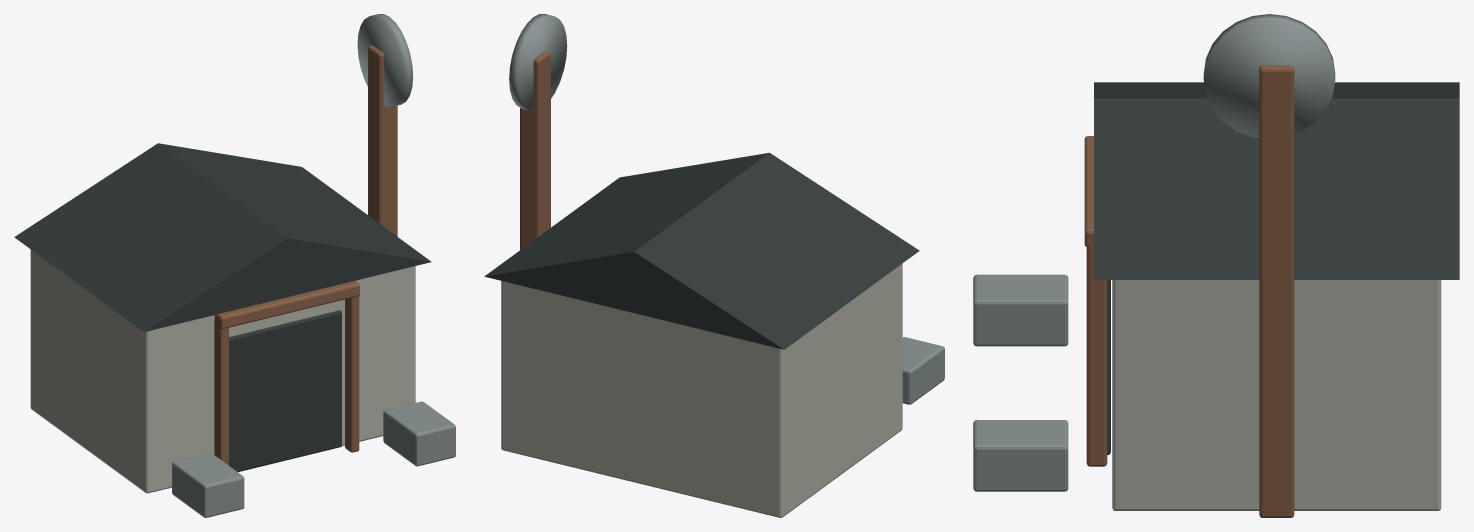
File: quarry.glb
3 renders of one model, left to right at view 1: azimuth 30°, elevation 25°; view 2: azimuth 150°, elevation 25°; view 3: azimuth 270°, elevation 25°, orthographic. The views are drawn at different scales.
Visible parts, largest first — view 1: quarry_black, quarry_stone, quarry_timber, quarry_steel; view 2: quarry_stone, quarry_black, quarry_steel, quarry_timber; view 3: quarry_stone, quarry_black, quarry_steel, quarry_timber.
Part boxes in pixels (x1,y1,x2,y2): quarry_black: (14,143,431,471); quarry_stone: (30,249,415,493); quarry_timber: (214,45,397,465); quarry_steel: (172,14,455,517); quarry_stone: (501,263,902,517); quarry_black: (484,152,919,349); quarry_steel: (509,14,944,404); quarry_timber: (520,51,550,249); quarry_stone: (1112,280,1441,510); quarry_black: (1094,82,1459,454); quarry_steel: (973,14,1335,491); quarry_timber: (1084,65,1294,517).
Bounding box in the file's own units: 6.96 × 7.73 × 6.65.
